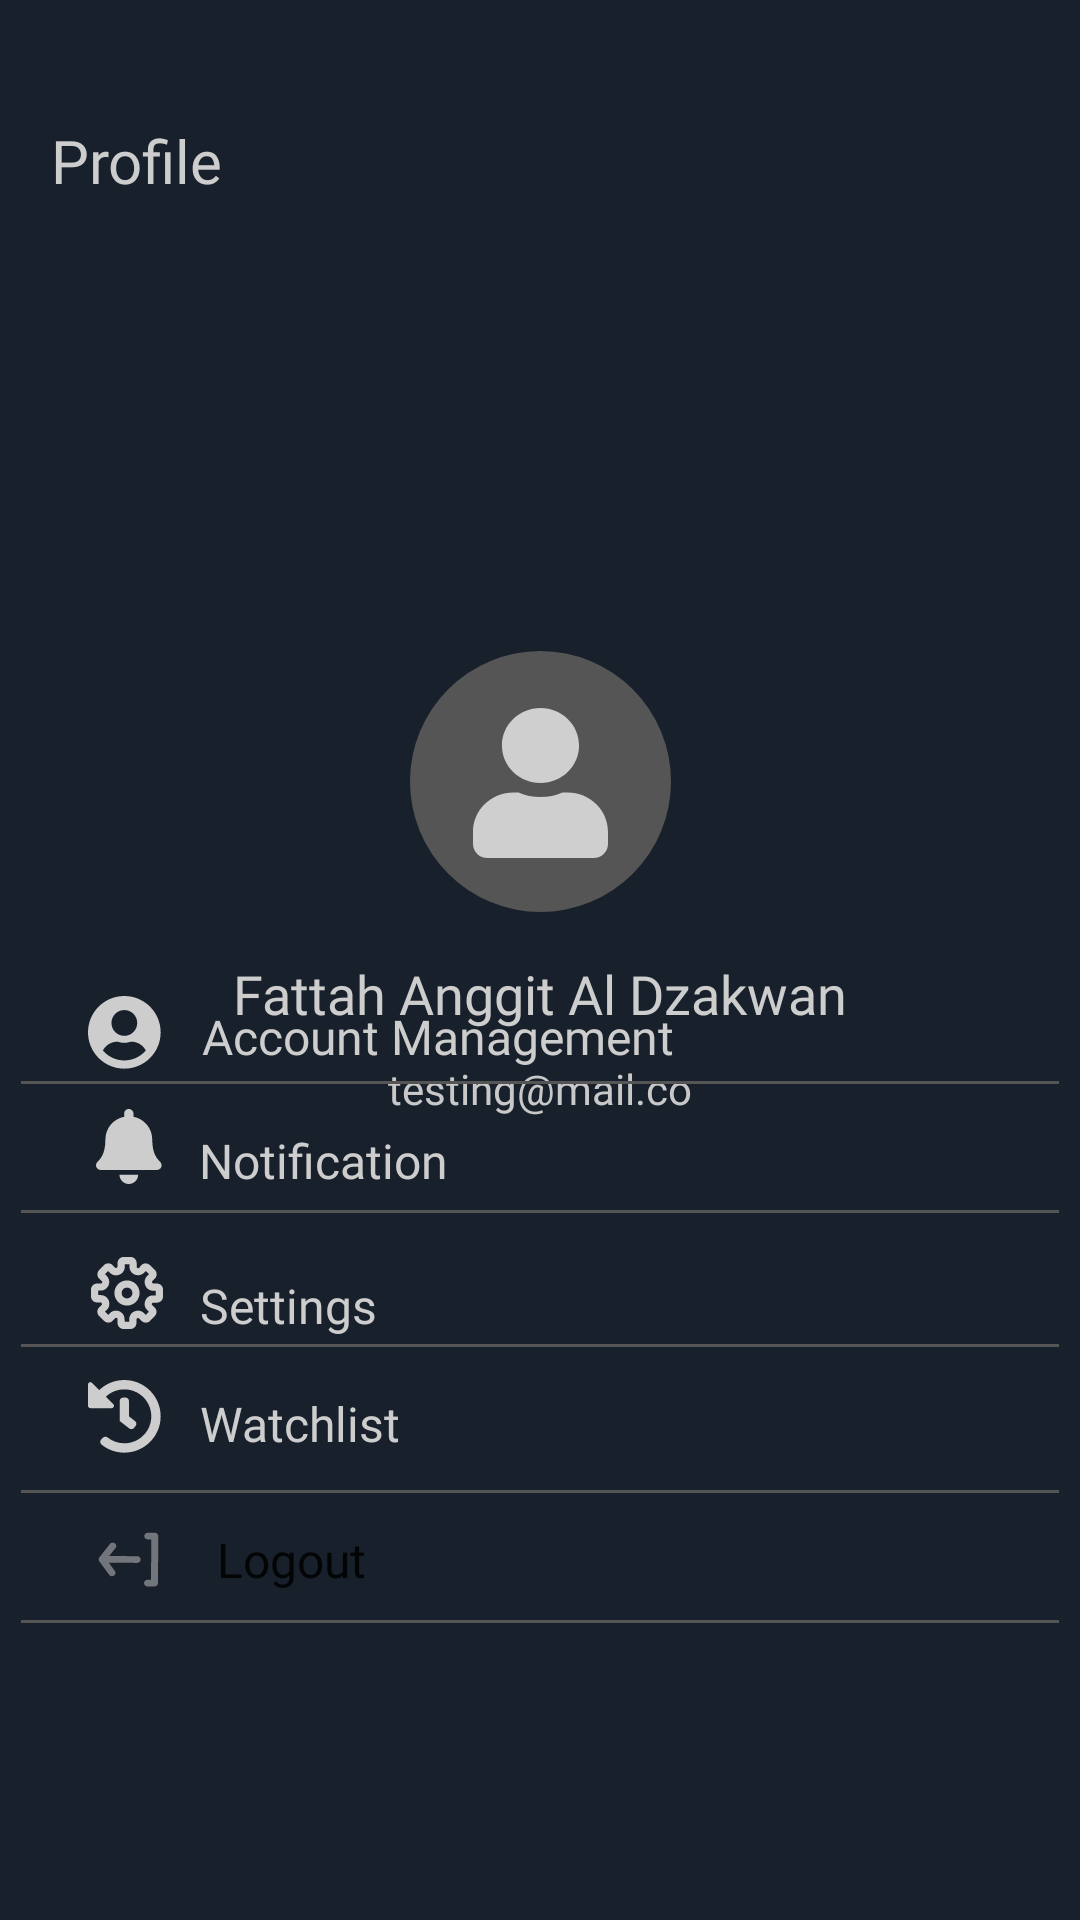

Named icons in this screenshot (1080x1920) and their centers, (x=x, y=y):
profileicon: (x=540, y=781)
